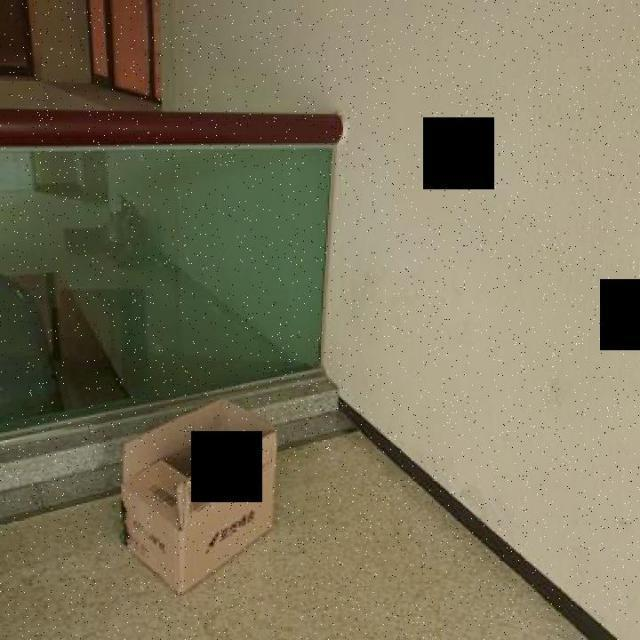box: (106, 380, 302, 604)
